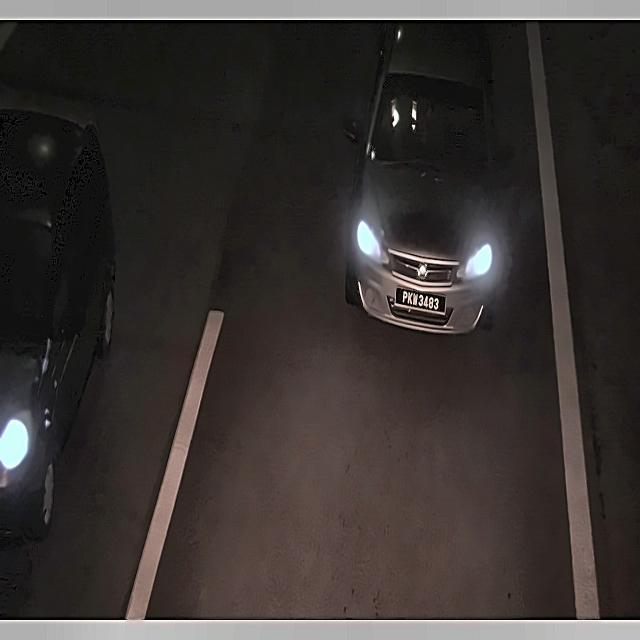car: (394, 282, 451, 317)
